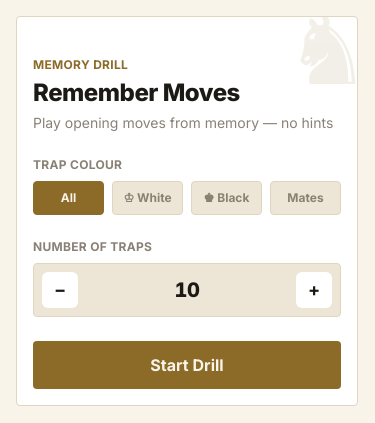
Test: MemoryDrillPage › the trap-count stepper increments/decrements through the fixed size list
Check: the text "10" is shown, box [174,276,200,304]
Click the button "+": [314, 290] box [296,272,332,308]
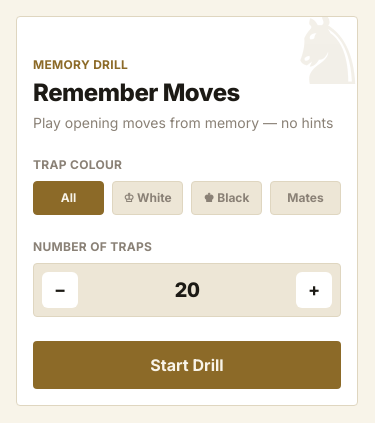
Check: the text "20" is shown, box [174,276,200,304]
Click the button "−": [60, 290] box [42,272,78,308]
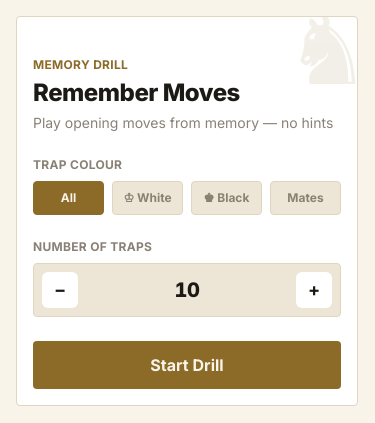
Click the button "−": [60, 290] box [42,272,78,308]
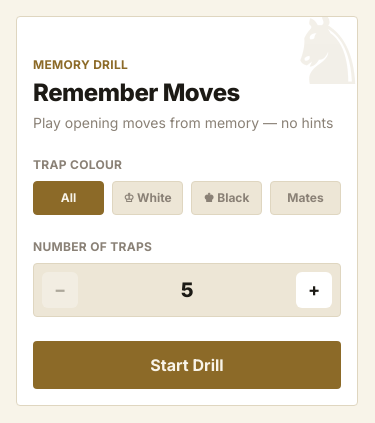
Check: the text "5" is shown, box [181,276,193,304]
